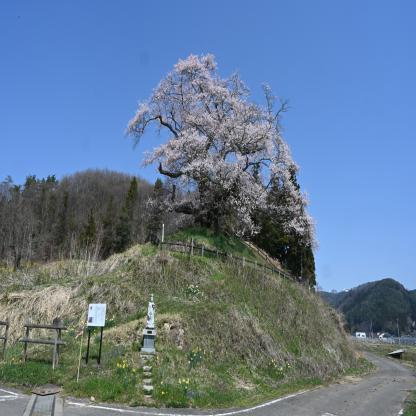EdohiganSakura: (122, 52, 322, 268)
